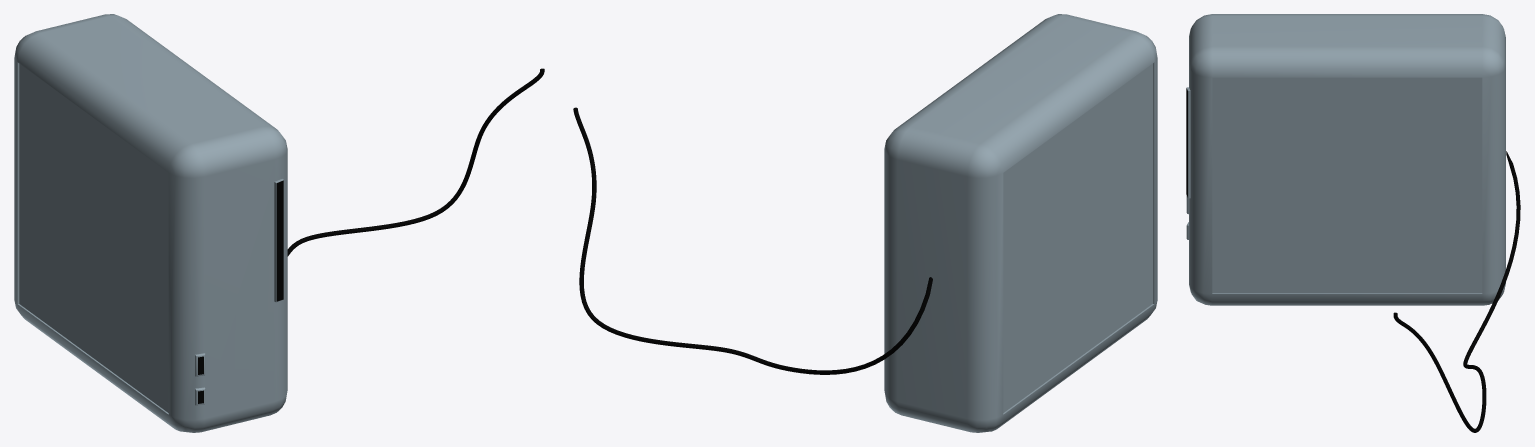
Rendered from computer and wire new material.fbx.
3 renders of one model, left to right at view 1: azimuth 30°, elevation 25°; view 2: azimuth 150°, elevation 25°; view 3: azimuth 270°, elevation 25°, orthographic. The views are drawn at different scales.
Parts seen in each view (by area): view 1: pCube94; view 2: pCube94; view 3: pCube94.
Part boxes in pixels (x1,y1,x2,y2): pCube94: [14, 14, 544, 432]; pCube94: [573, 14, 1157, 432]; pCube94: [1186, 14, 1520, 432].
Bounding box in the file's own units: 1.32 × 0.7525 × 0.8958.
